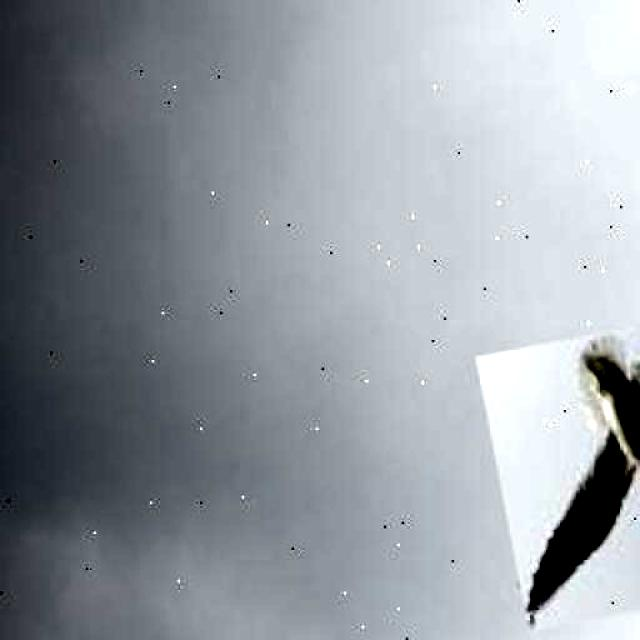airplane: (476, 316, 640, 632)
